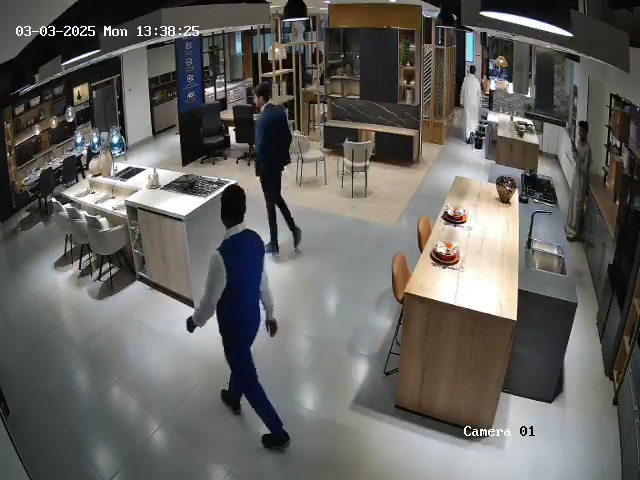employee: (186, 184, 291, 452), (252, 81, 302, 253)
male: (566, 120, 592, 241), (460, 65, 482, 144)
